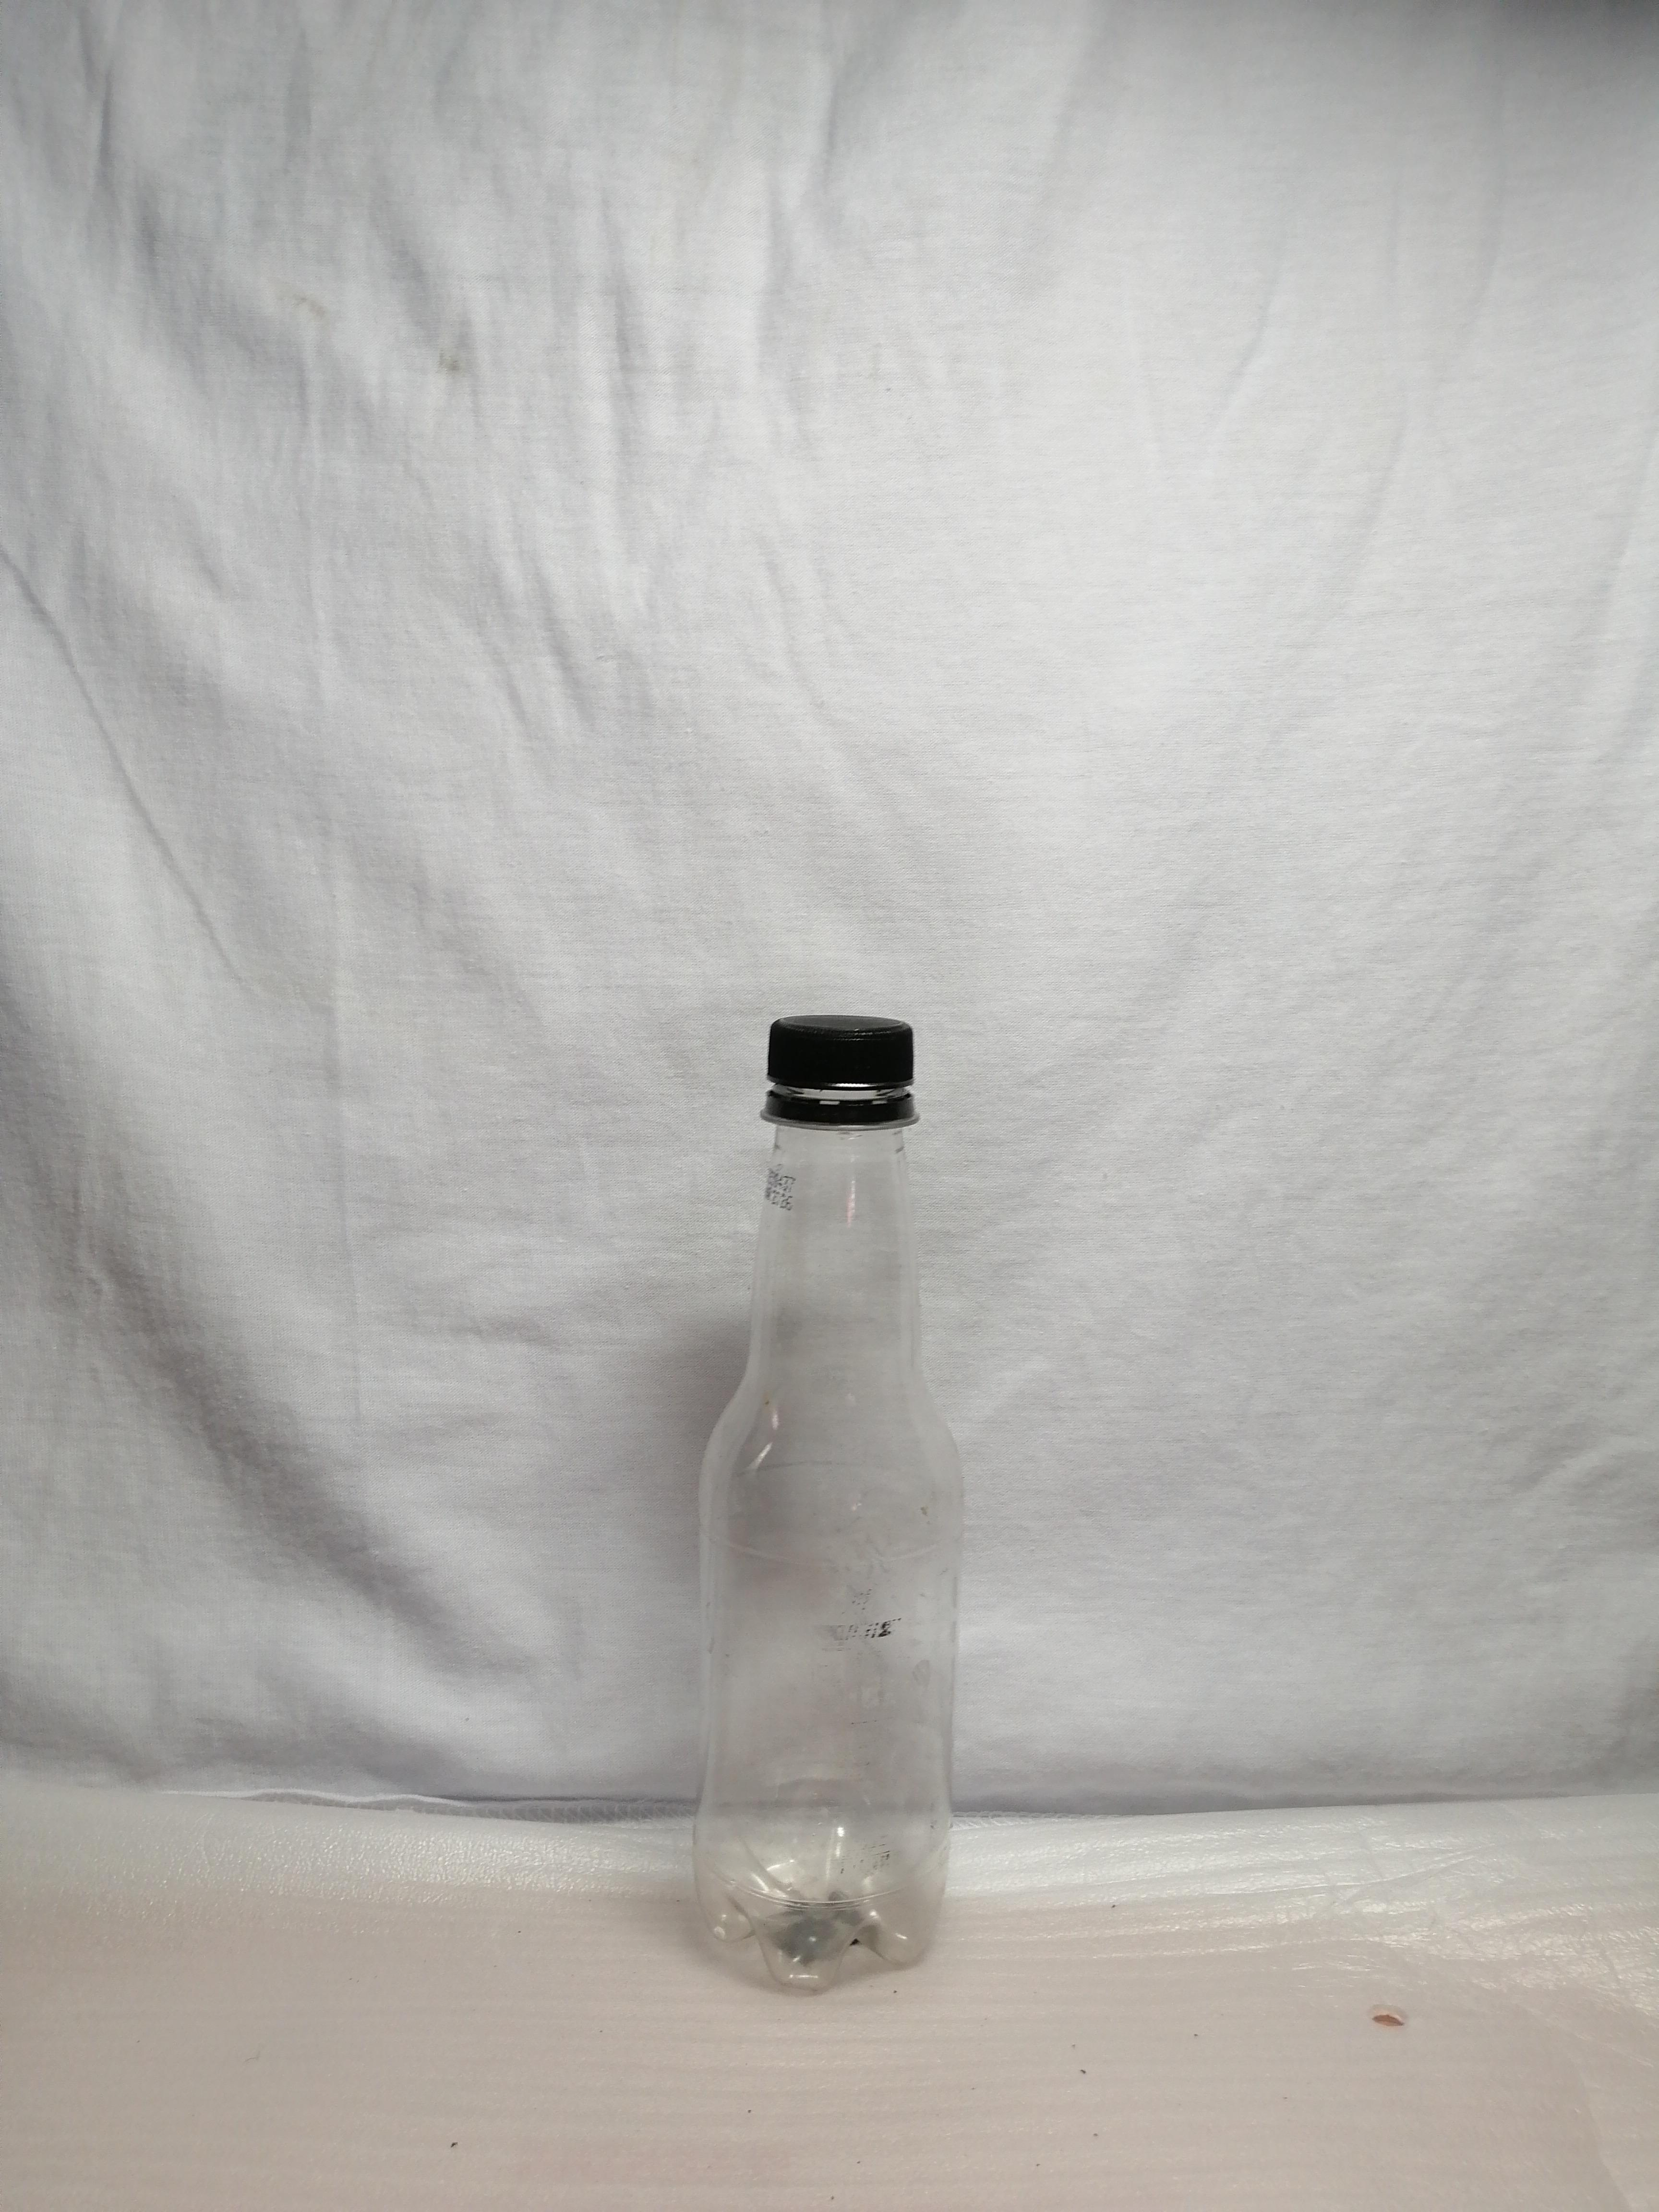plastic-bottle: (566, 974, 1037, 2059)
